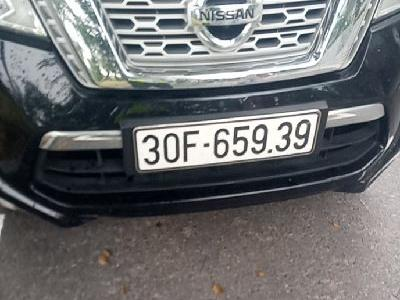lisence: (131, 109, 322, 174)
